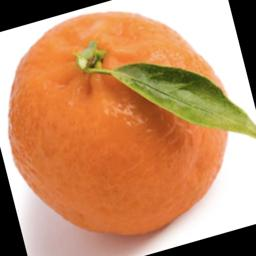Banana Semirotten: (0, 9, 256, 256)
